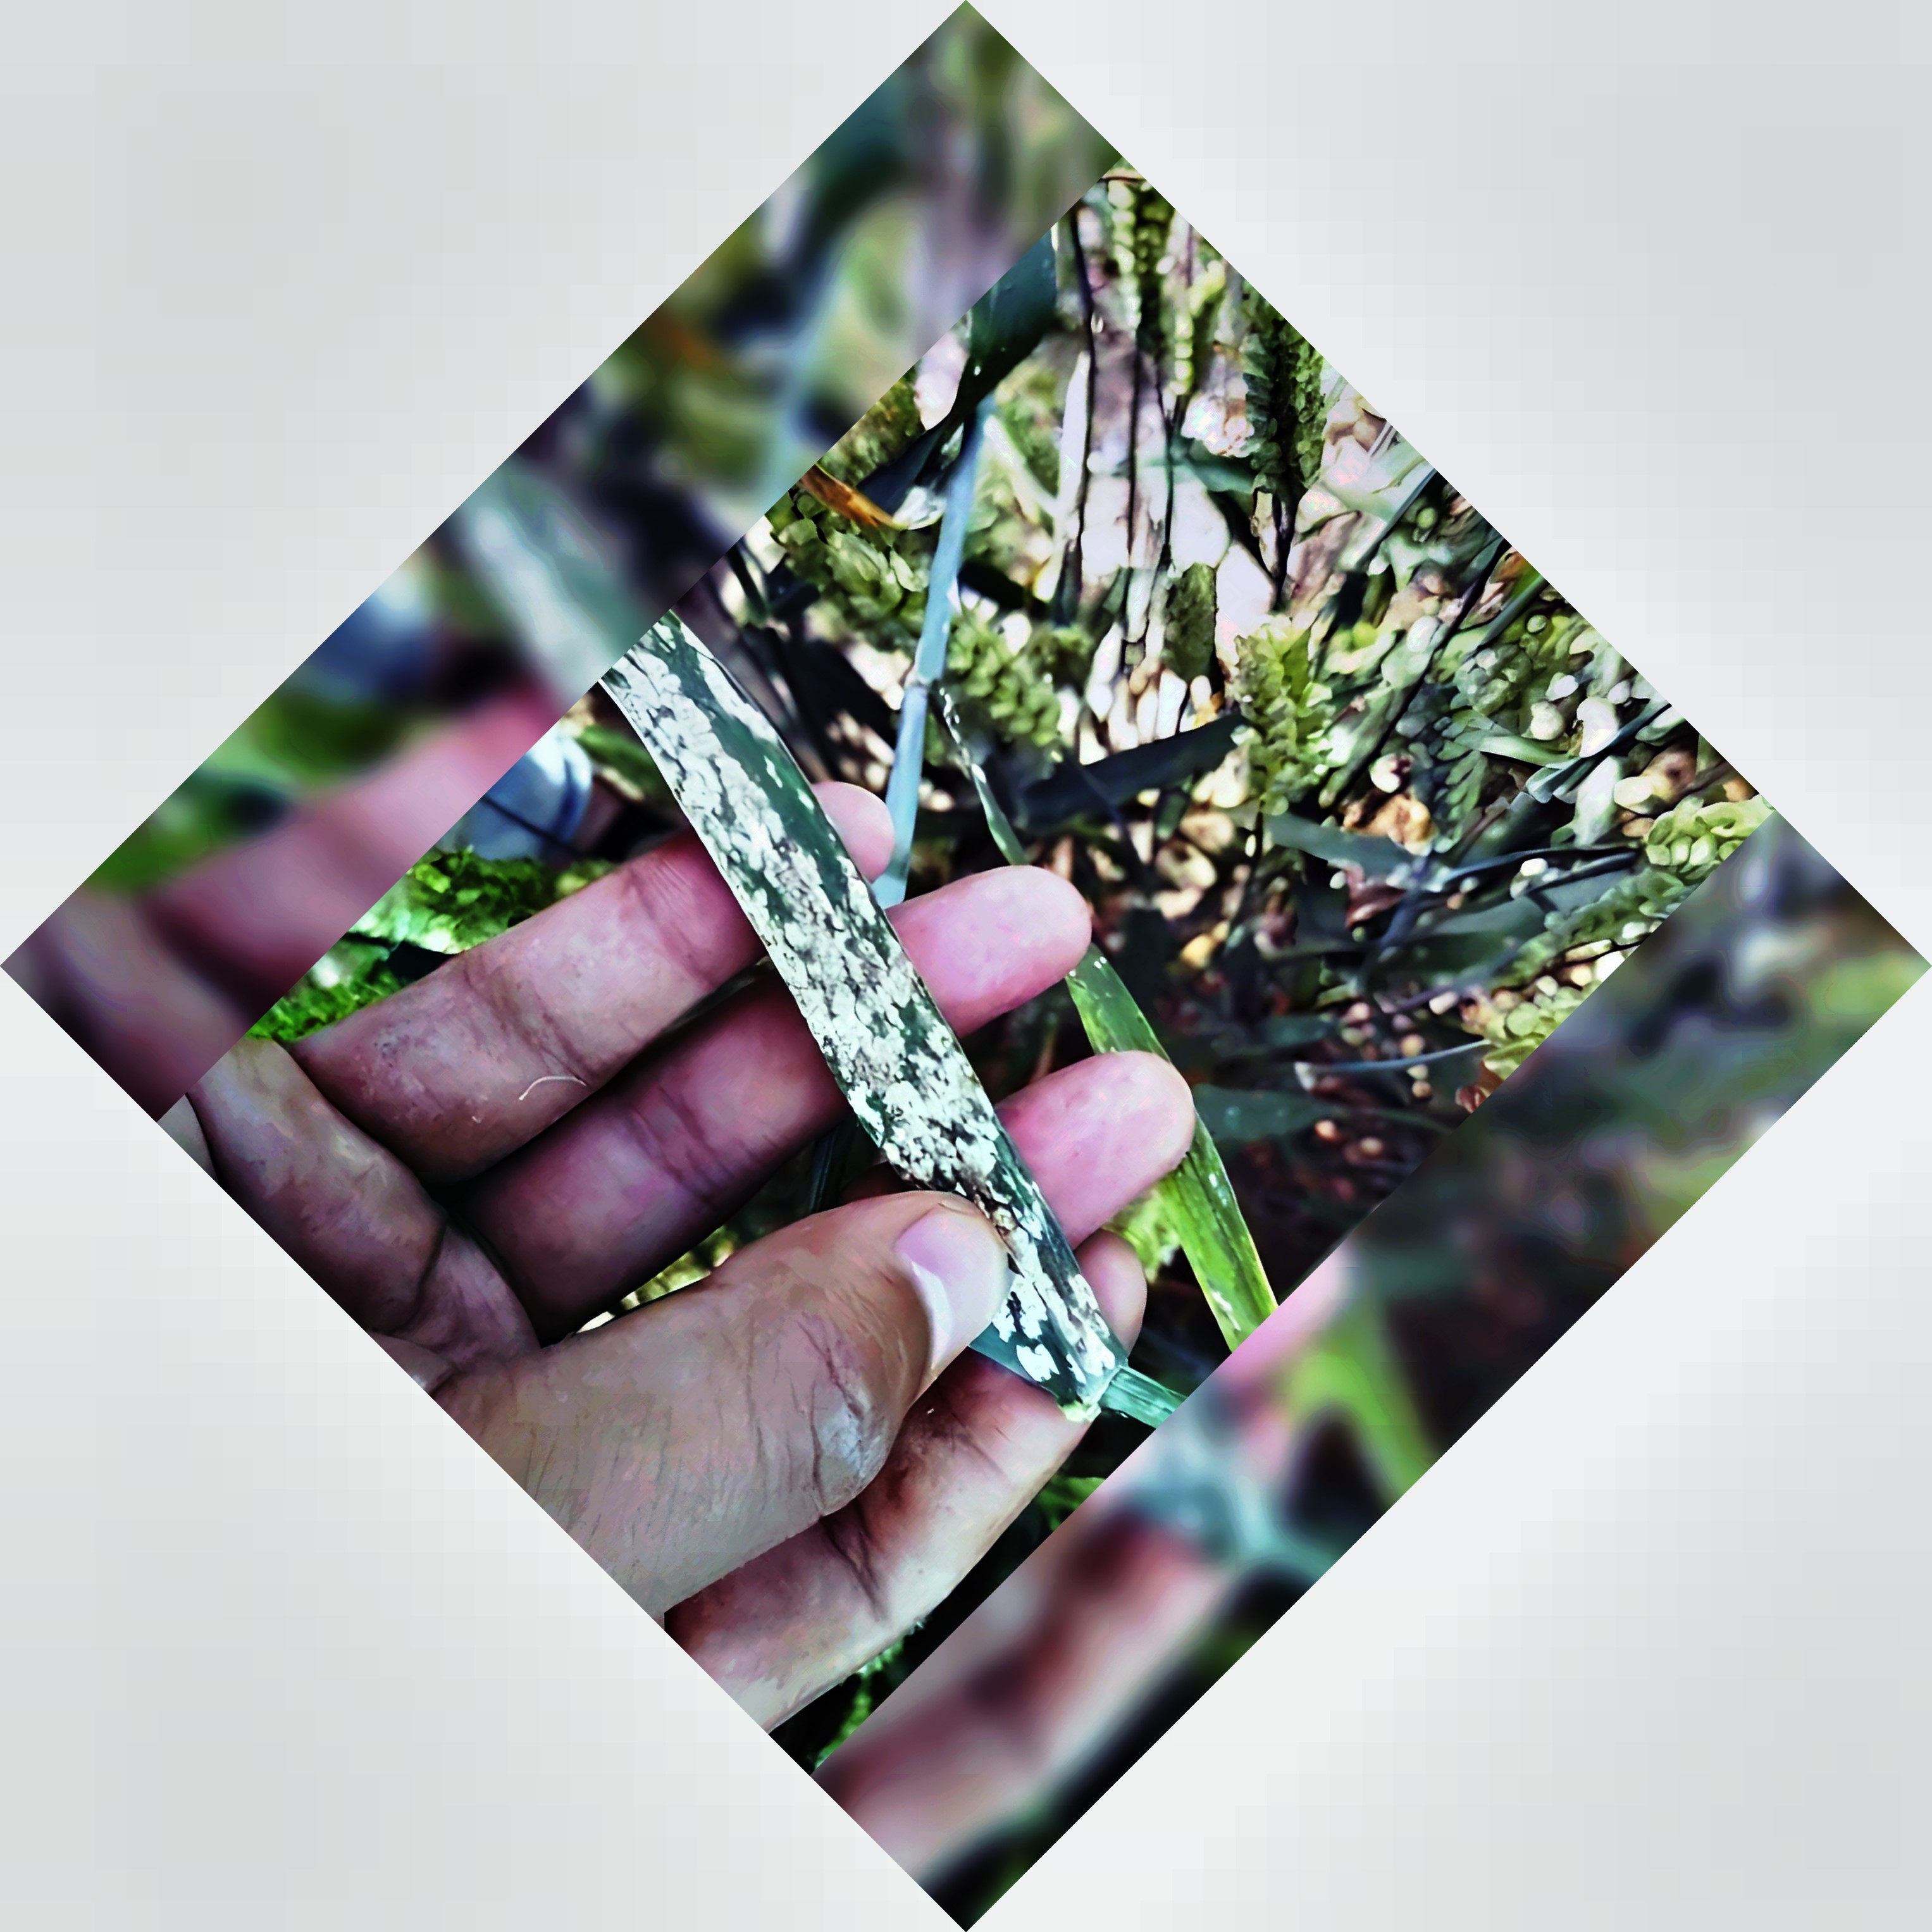Powdery Mildew: (621, 653, 1102, 1376)
